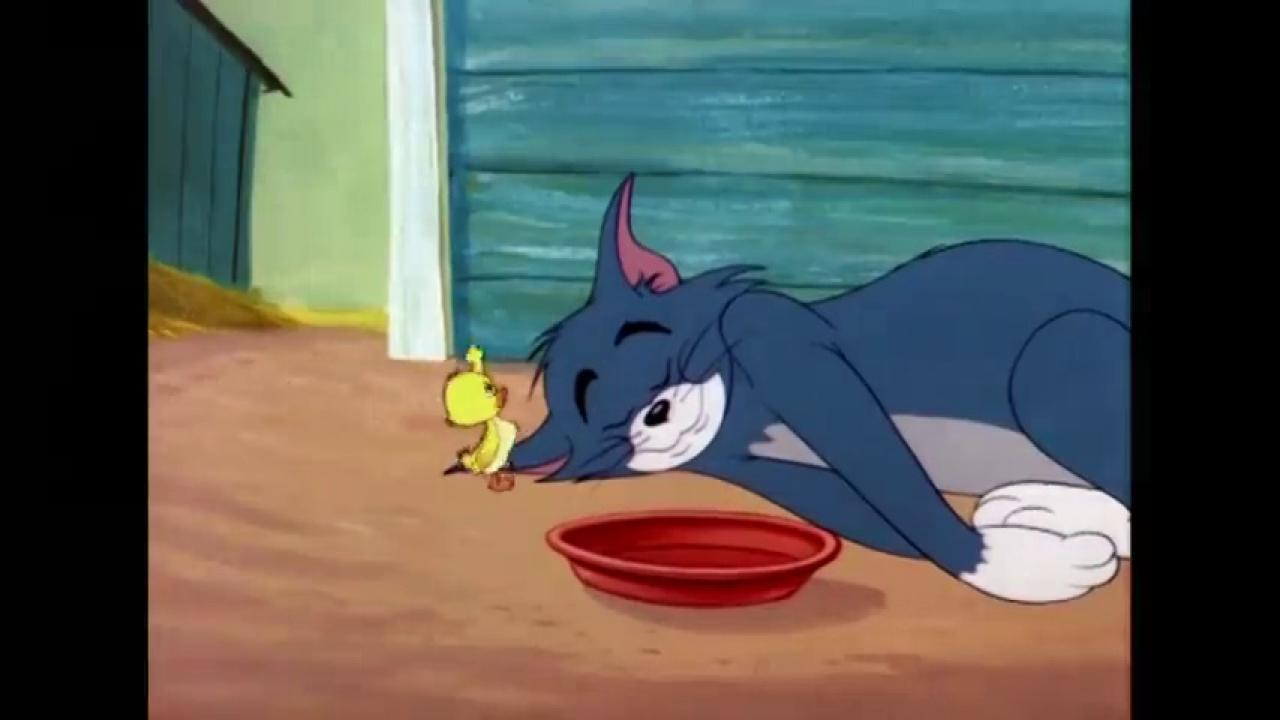Tom: (443, 169, 1130, 604)
